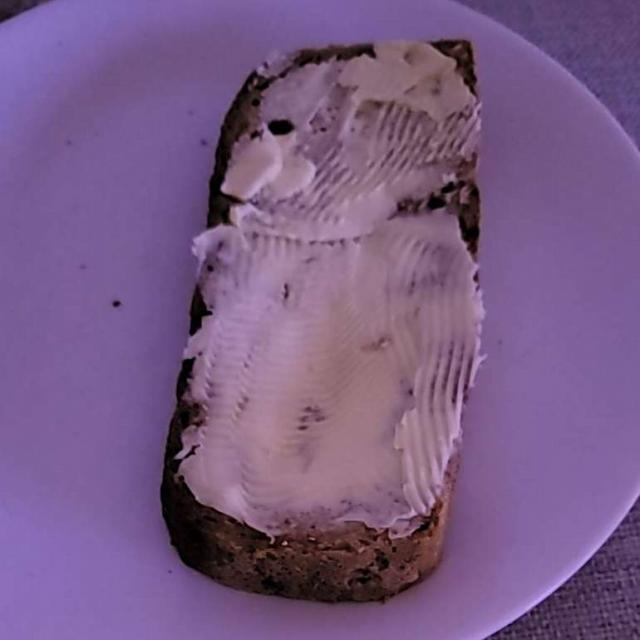bread: (154, 38, 478, 595)
butter: (186, 61, 462, 528)
